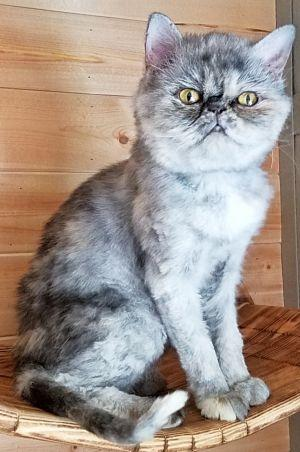persian: (130, 4, 298, 185)
